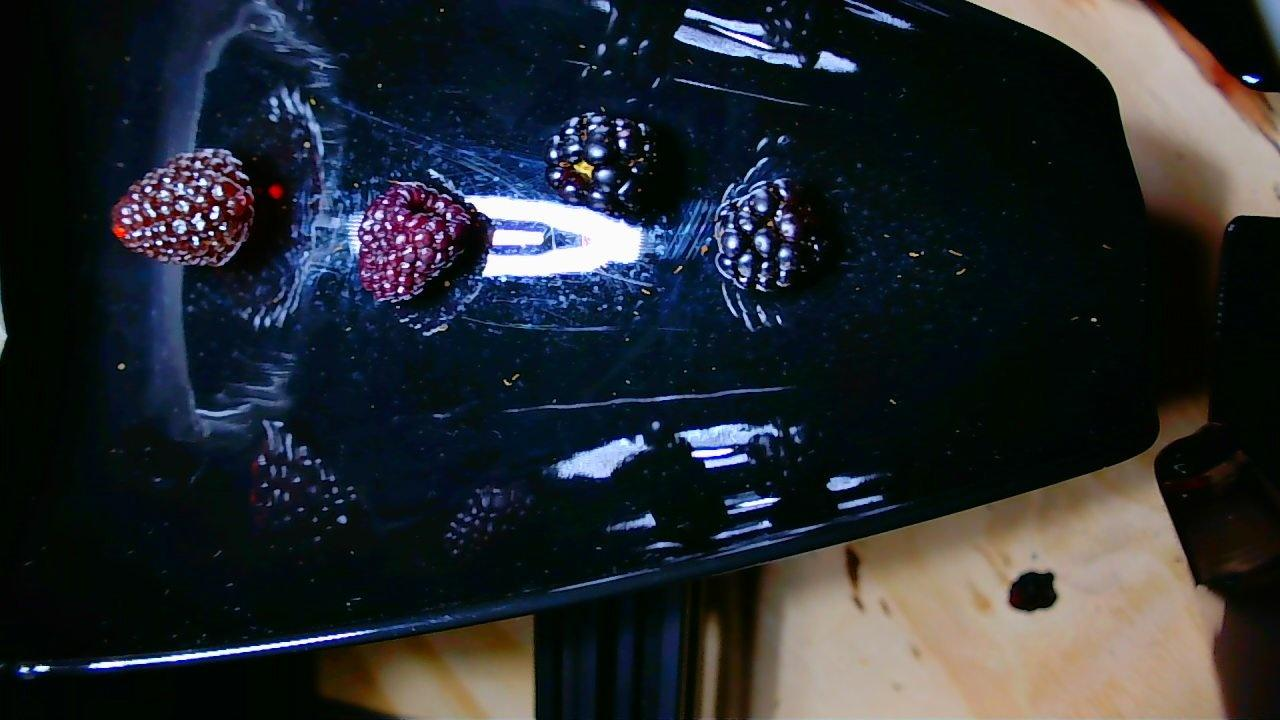berry: (112, 148, 254, 266), (358, 181, 486, 302), (714, 178, 823, 291), (543, 112, 658, 215)
